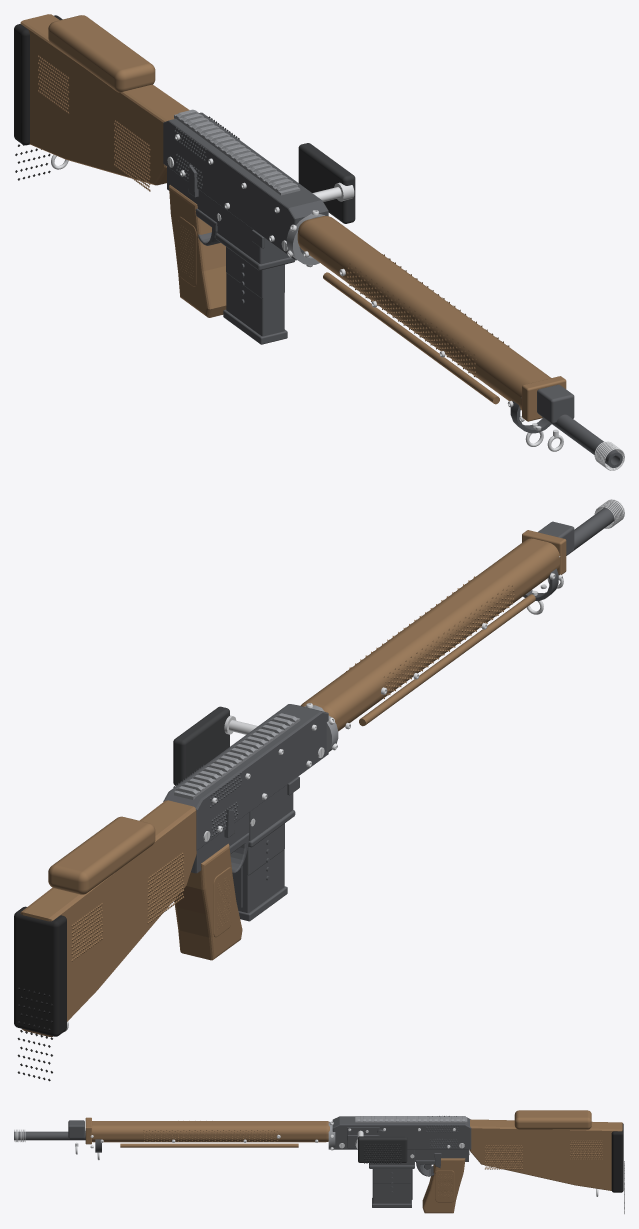
The picture shows the model from 3 angles, top to bottom: view 1: azimuth 30°, elevation 25°; view 2: azimuth 150°, elevation 25°; view 3: azimuth 270°, elevation 25°; orthographic projection. The views are drawn at different scales.
Parts seen in each view (by area): view 1: straight-pull-rifle, magazine/gunmetal, bolt/polymerBlack; view 2: straight-pull-rifle, magazine/gunmetal, bolt/polymerBlack; view 3: straight-pull-rifle, magazine/gunmetal, bolt/polymerBlack.
Part boxes in pixels (<box>): straight-pull-rifle: <box>14,14,624,470</box>; magazine/gunmetal: <box>223,247,287,344</box>; bolt/polymerBlack: <box>298,143,355,223</box>; straight-pull-rifle: <box>14,499,624,1081</box>; magazine/gunmetal: <box>232,823,287,921</box>; bolt/polymerBlack: <box>173,706,229,785</box>; straight-pull-rifle: <box>14,1110,624,1213</box>; magazine/gunmetal: <box>372,1169,412,1207</box>; bolt/polymerBlack: <box>358,1136,407,1163</box>.
Size of the model in its own units: 0.1053 by 0.1936 by 1.11.
